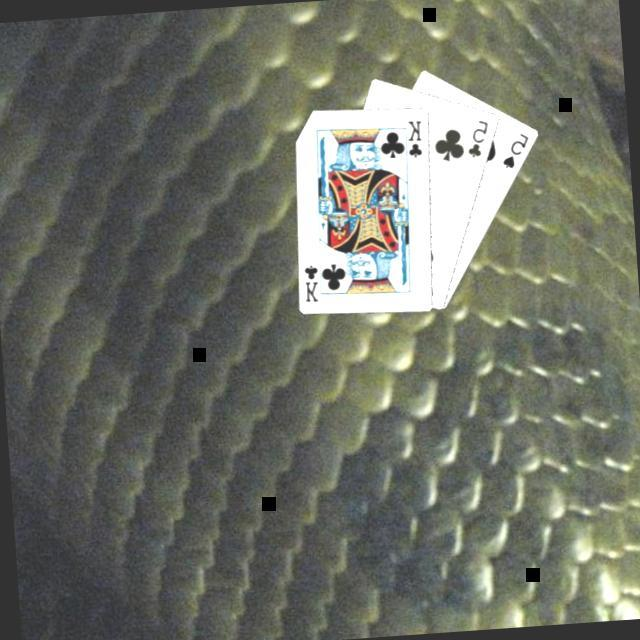5C: (464, 116, 495, 161)
5S: (499, 130, 536, 172)
KC: (401, 117, 428, 165), (302, 257, 329, 305)
